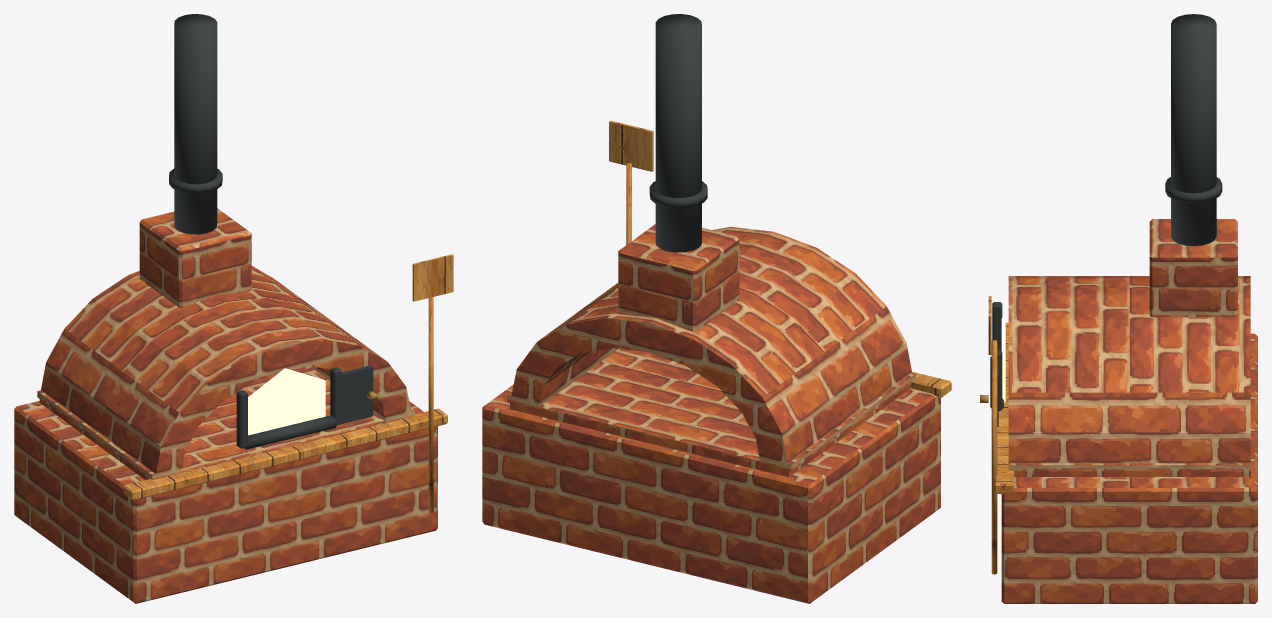
3 views of the same model, side by side, from view 1: azimuth 30°, elevation 25°; view 2: azimuth 150°, elevation 25°; view 3: azimuth 270°, elevation 25° (orthographic). The views are drawn at different scales.
Parts seen in each view (by area): view 1: shop_brick, shop_iron, shop_oak, shop_lamp_glass; view 2: shop_brick, shop_iron, shop_oak; view 3: shop_brick, shop_iron, shop_oak.
Boxes of the visible parts, x1=… form: shop_brick: x1=14, y1=208, x2=437, y2=603; shop_iron: x1=169, y1=14, x2=373, y2=449; shop_oak: x1=123, y1=254, x2=453, y2=512; shop_lamp_glass: x1=248, y1=368, x2=325, y2=435; shop_brick: x1=482, y1=224, x2=940, y2=603; shop_iron: x1=649, y1=14, x2=707, y2=252; shop_oak: x1=609, y1=120, x2=951, y2=397; shop_brick: x1=1001, y1=219, x2=1257, y2=603; shop_iron: x1=990, y1=14, x2=1222, y2=426; shop_oak: x1=988, y1=296, x2=1014, y2=574.
Bounding box in the file's own units: 2.72 × 3.9 × 1.95.
Materials: 6 (2 with a texture image).
